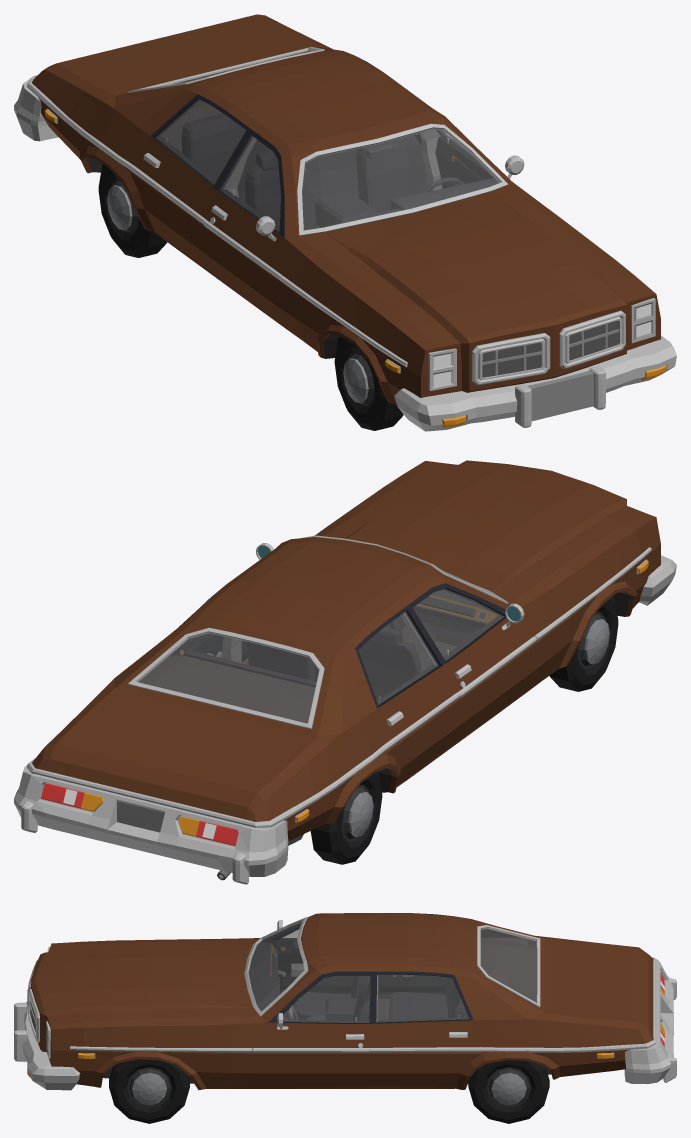
The model's file is lowpolycarparts.fbx.
3 renders of one model, top to bottom at view 1: azimuth 30°, elevation 25°; view 2: azimuth 150°, elevation 25°; view 3: azimuth 270°, elevation 25°, orthographic. The views are drawn at different scales.
Parts seen in each view (by area): view 1: CityCar03, DoorRear_R, Door_R, Wheel_FR, Wheel_RR, Door_L; view 2: CityCar03, Door_R, DoorRear_R, Wheel_RR, Wheel_FR, DoorRear_L; view 3: CityCar03, Door_L, DoorRear_L, Wheel_FL, Wheel_RL, Door_R, DoorRear_R.
Part boxes in pixels (x1=…): CityCar03: x1=14, y1=14, x2=676, y2=431; DoorRear_R: x1=130, y1=94, x2=249, y2=270; Door_R: x1=203, y1=128, x2=287, y2=325; Wheel_FR: x1=334, y1=336, x2=403, y2=430; Wheel_RR: x1=98, y1=164, x2=167, y2=257; Door_L: x1=435, y1=130, x2=493, y2=188; CityCar03: x1=14, y1=460, x2=676, y2=884; Door_R: x1=408, y1=583, x2=537, y2=744; DoorRear_R: x1=355, y1=605, x2=460, y2=784; Wheel_RR: x1=310, y1=771, x2=382, y2=864; Wheel_FR: x1=549, y1=596, x2=618, y2=691; DoorRear_L: x1=170, y1=587, x2=223, y2=657; CityCar03: x1=14, y1=913, x2=676, y2=1090; Door_L: x1=251, y1=971, x2=374, y2=1086; DoorRear_L: x1=369, y1=971, x2=481, y2=1086; Wheel_FL: x1=109, y1=1059, x2=189, y2=1123; Wheel_RL: x1=468, y1=1060, x2=549, y2=1123; Door_R: x1=262, y1=925, x2=353, y2=994; DoorRear_R: x1=378, y1=913, x2=449, y2=998.
Size of the model in its own units: 205 by 141 by 582.
